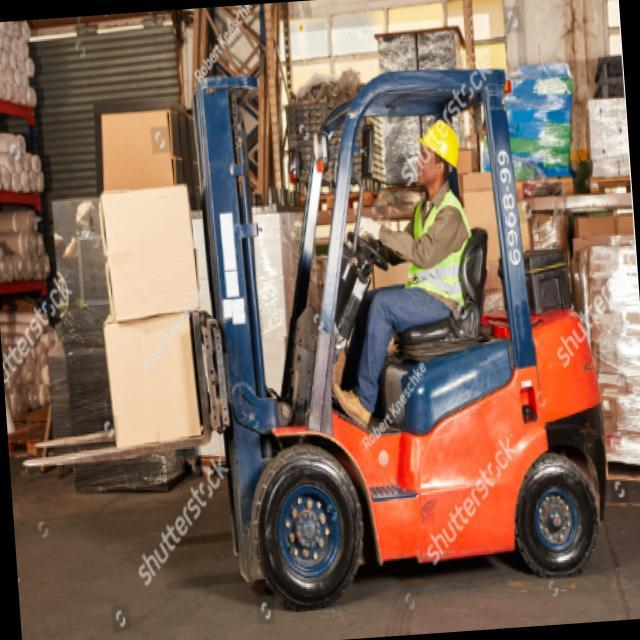hard_hat: (412, 120, 464, 195)
shoes: (333, 362, 378, 433)
vest: (406, 187, 477, 318)
